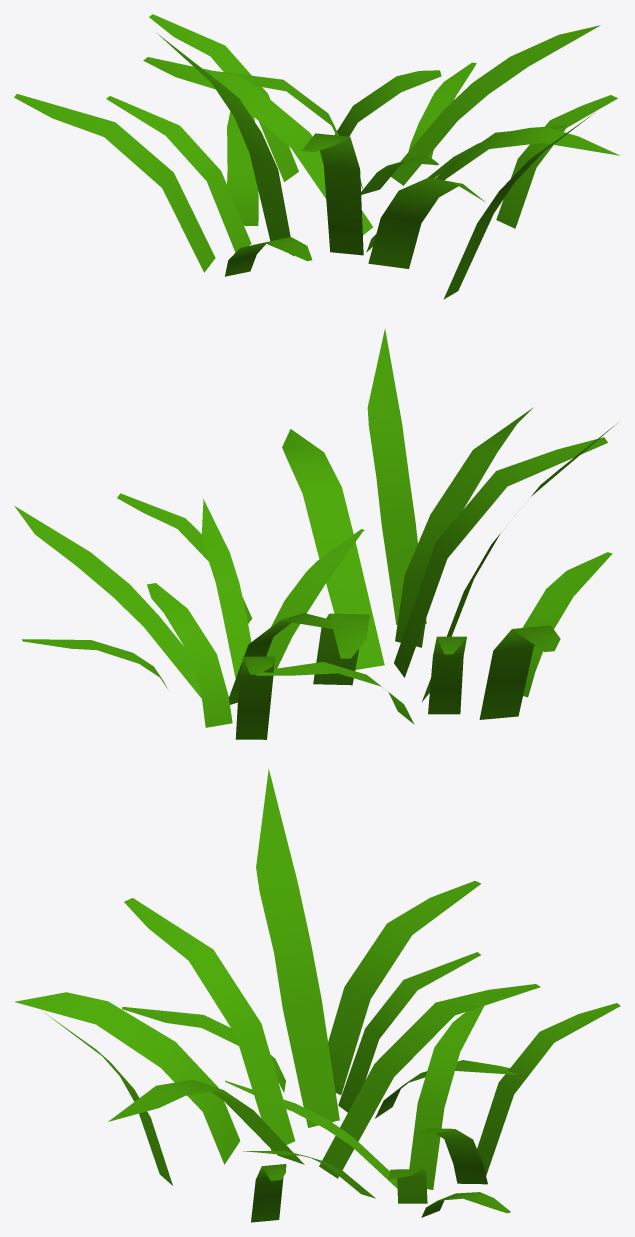
The model's file is 1grass 1.fbx.
3 views of the same model, one above another, from view 1: azimuth 30°, elevation 25°; view 2: azimuth 150°, elevation 25°; view 3: azimuth 270°, elevation 25° (orthographic). The views are drawn at different scales.
Parts seen in each view (by area): view 1: Grass; view 2: Grass; view 3: Grass.
Part boxes in pixels (box(x1,y1,x2,y2)): Grass: box(14, 14, 619, 299); Grass: box(14, 329, 618, 739); Grass: box(14, 769, 620, 1222).
Bounding box in the file's own units: 133 × 67.12 × 127.
